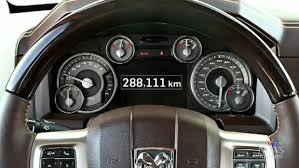Digital_Meter: (120, 76, 182, 90)
